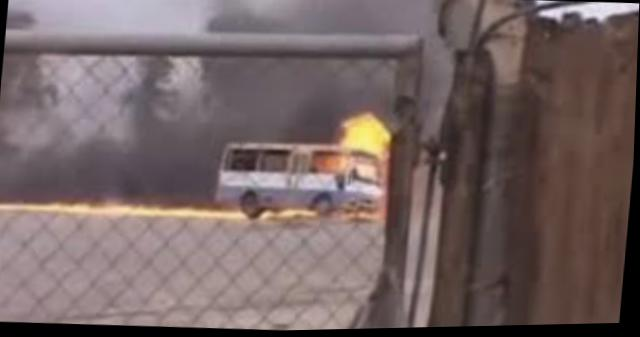fire: (294, 108, 405, 215)
